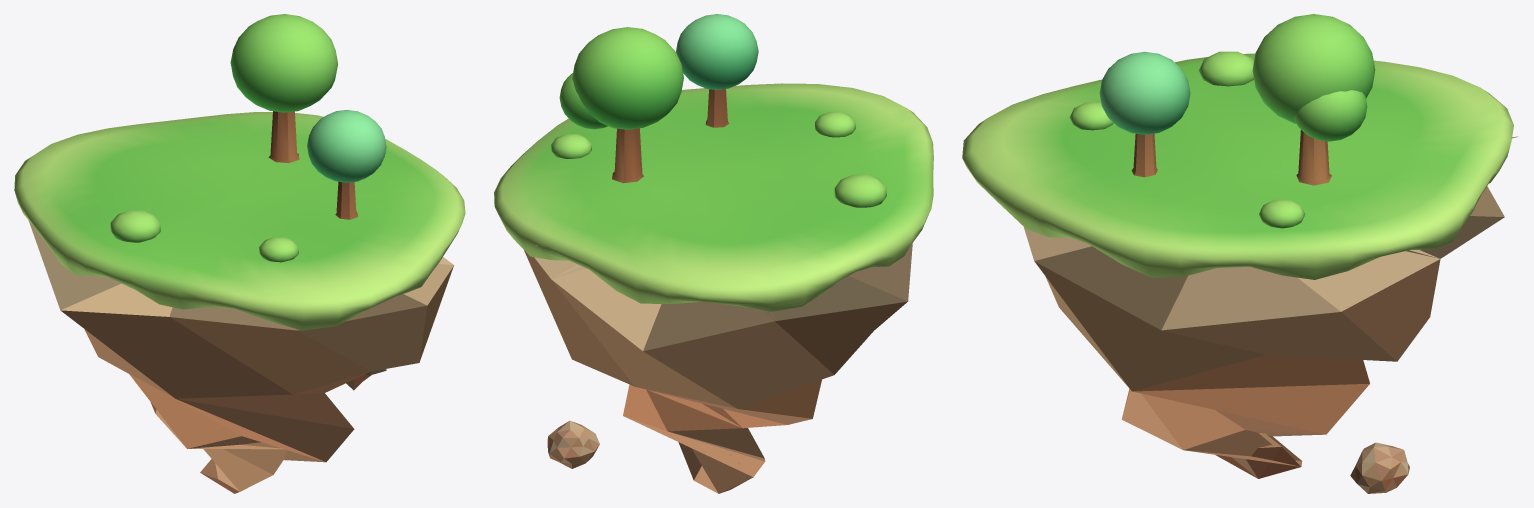
The model's file is island_c.glb.
The picture shows the model from 3 angles, left to right: view 1: azimuth 30°, elevation 25°; view 2: azimuth 150°, elevation 25°; view 3: azimuth 270°, elevation 25°; orthographic projection. The views are drawn at different scales.
Parts seen in each view (by area): view 1: Island; view 2: Island; view 3: Island.
Boxes of the visible parts, box(x1,y1,x2,y2) form: Island: box(14, 14, 465, 493); Island: box(494, 14, 933, 493); Island: box(962, 14, 1518, 493).
Size of the model in its own units: 19.72 by 22.79 by 23.02.
